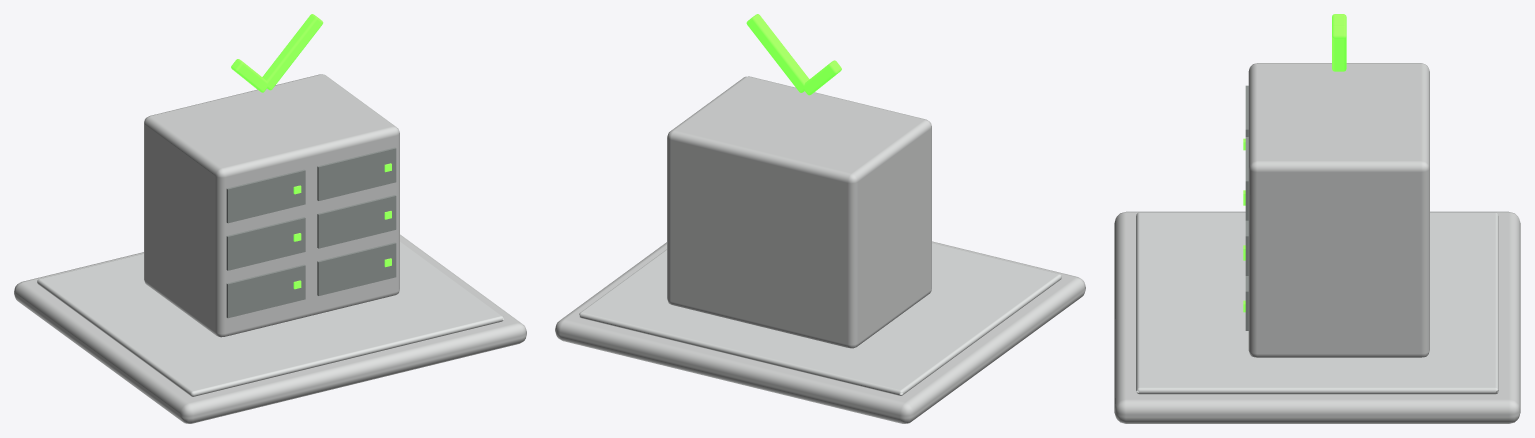
Rendered from component-complete.glb.
The picture shows the model from 3 angles, left to right: view 1: azimuth 30°, elevation 25°; view 2: azimuth 150°, elevation 25°; view 3: azimuth 270°, elevation 25°; orthographic projection. The views are drawn at different scales.
Parts seen in each view (by area): view 1: store_rack, complete_paving, complete_podium, store_bay_0_1, store_bay_1_0, store_bay_2_0, store_bay_2_1, store_bay_0_0, store_bay_1_1, store_check_long, store_check_short; view 2: store_rack, complete_paving, complete_podium, store_check_long, store_check_short; view 3: store_rack, complete_paving, complete_podium, store_check_long.
Boxes of the visible parts, left/top/right/bottom form: store_rack: left=144, top=74, right=399, bottom=337; complete_paving: left=37, top=241, right=503, bottom=396; complete_podium: left=14, top=234, right=526, bottom=423; store_bay_0_1: left=317, top=242, right=396, bottom=295; store_bay_1_0: left=226, top=217, right=305, bottom=270; store_bay_2_0: left=226, top=169, right=305, bottom=223; store_bay_2_1: left=317, top=147, right=396, bottom=200; store_bay_0_0: left=226, top=264, right=305, bottom=318; store_bay_1_1: left=317, top=195, right=396, bottom=248; store_check_long: left=262, top=14, right=323, bottom=90; store_check_short: left=231, top=59, right=267, bottom=92; store_rack: left=667, top=76, right=931, bottom=348; complete_paving: left=579, top=243, right=1061, bottom=395; complete_podium: left=555, top=241, right=1085, bottom=423; store_check_long: left=746, top=14, right=809, bottom=92; store_check_short: left=804, top=60, right=841, bottom=95; store_rack: left=1248, top=63, right=1429, bottom=357; complete_paving: left=1136, top=212, right=1498, bottom=394; complete_podium: left=1114, top=211, right=1520, bottom=423; store_check_long: left=1332, top=25, right=1346, bottom=71.
Size of the model in its own units: 3.2 by 2.54 by 2.8.
